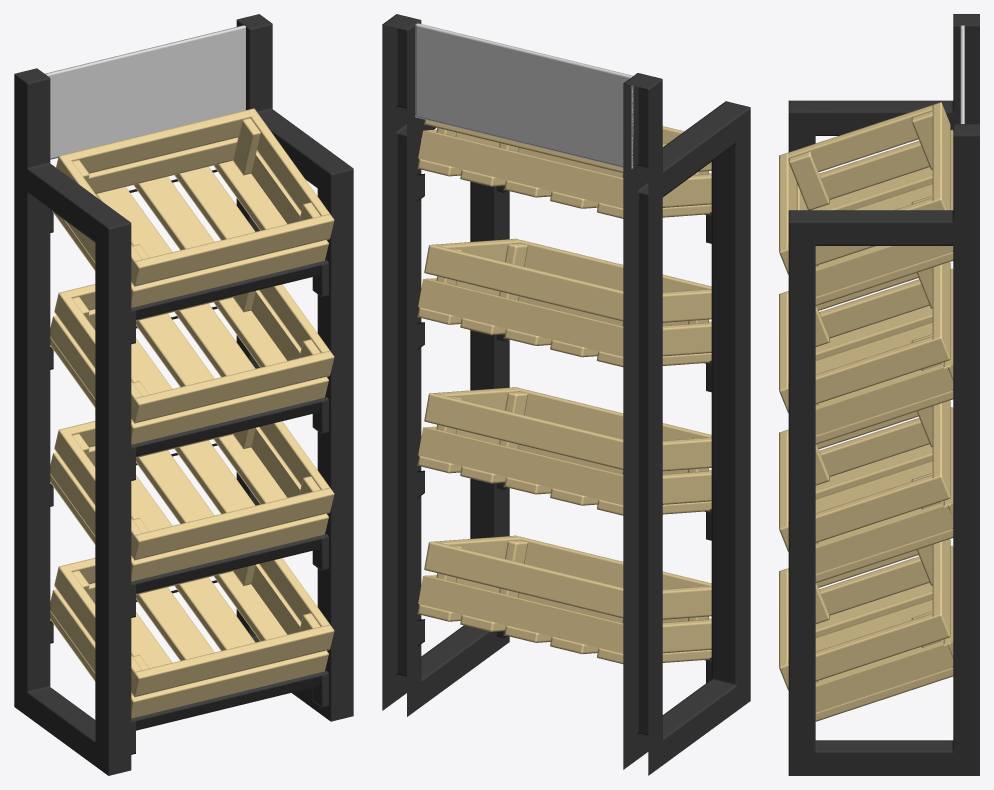
File: SM_ShelfD_high.fbx
The picture shows the model from 3 angles, left to right: view 1: azimuth 30°, elevation 25°; view 2: azimuth 150°, elevation 25°; view 3: azimuth 270°, elevation 25°; orthographic projection. The views are drawn at different scales.
Visible parts, largest first — view 1: SM_ShelfD_high; view 2: SM_ShelfD_high; view 3: SM_ShelfD_high.
Boxes of the visible parts, x1=… form: SM_ShelfD_high: x1=14, y1=14, x2=353, y2=775; SM_ShelfD_high: x1=382, y1=14, x2=750, y2=775; SM_ShelfD_high: x1=779, y1=14, x2=979, y2=775.
Size of the model in its own units: 75 by 185 by 52.55.
